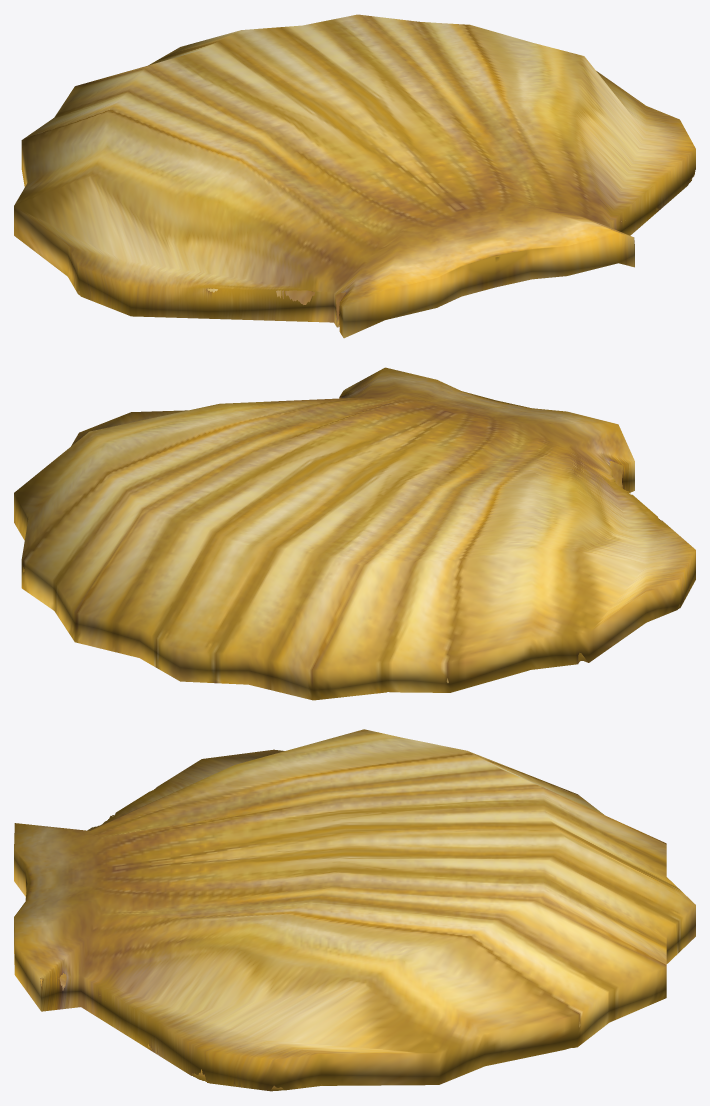
Rendered from seashell_1.fbx.
3 renders of one model, top to bottom at view 1: azimuth 30°, elevation 25°; view 2: azimuth 150°, elevation 25°; view 3: azimuth 270°, elevation 25°, orthographic. The views are drawn at different scales.
Parts seen in each view (by area): view 1: seashell_1; view 2: seashell_1; view 3: seashell_1.
Boxes of the visible parts, left/top/right/bottom form: seashell_1: left=14, top=14, right=695, bottom=338; seashell_1: left=14, top=367, right=695, bottom=700; seashell_1: left=14, top=729, right=695, bottom=1091.
Size of the model in its own units: 14.81 by 2.15 by 13.75.
